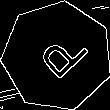P_SW: (26, 25, 88, 87)
